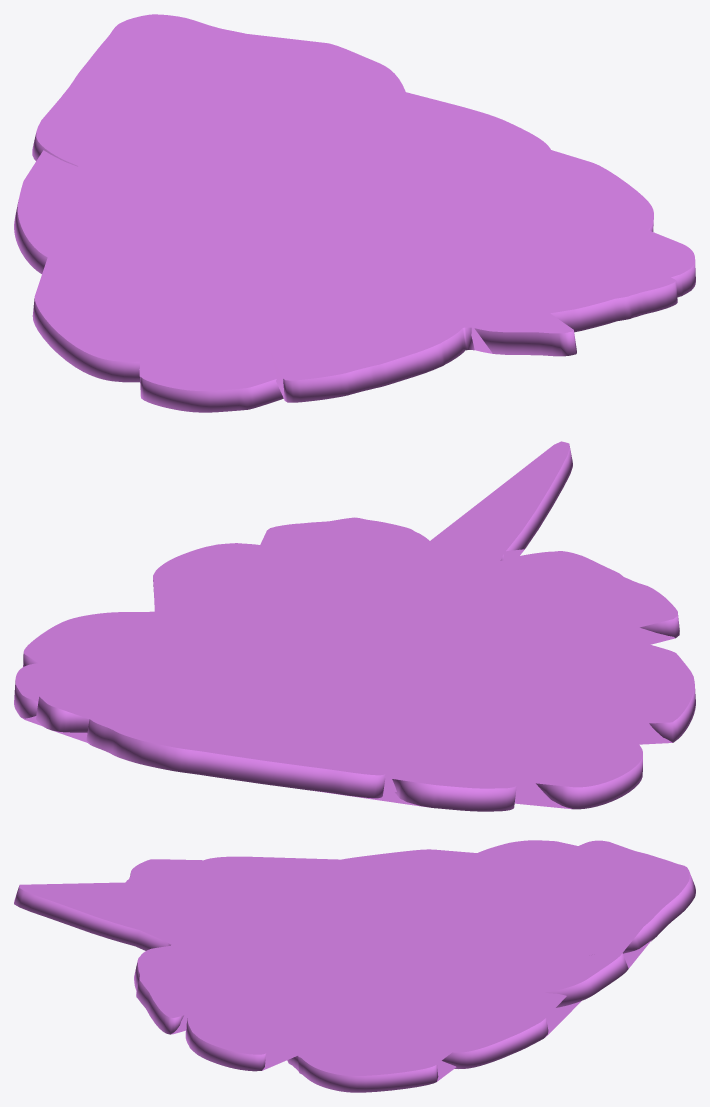
The model's file is WanderLeafRound.fbx.
The picture shows the model from 3 angles, top to bottom: view 1: azimuth 30°, elevation 25°; view 2: azimuth 150°, elevation 25°; view 3: azimuth 270°, elevation 25°; orthographic projection. The views are drawn at different scales.
Visible parts, largest first — view 1: Leaf; view 2: Leaf; view 3: Leaf.
Part boxes in pixels (x1,y1,x2,y2): Leaf: (14, 14, 695, 412); Leaf: (14, 441, 695, 811); Leaf: (14, 840, 695, 1092).
Bounding box in the file's own units: 26.5 × 5.84 × 34.11.
